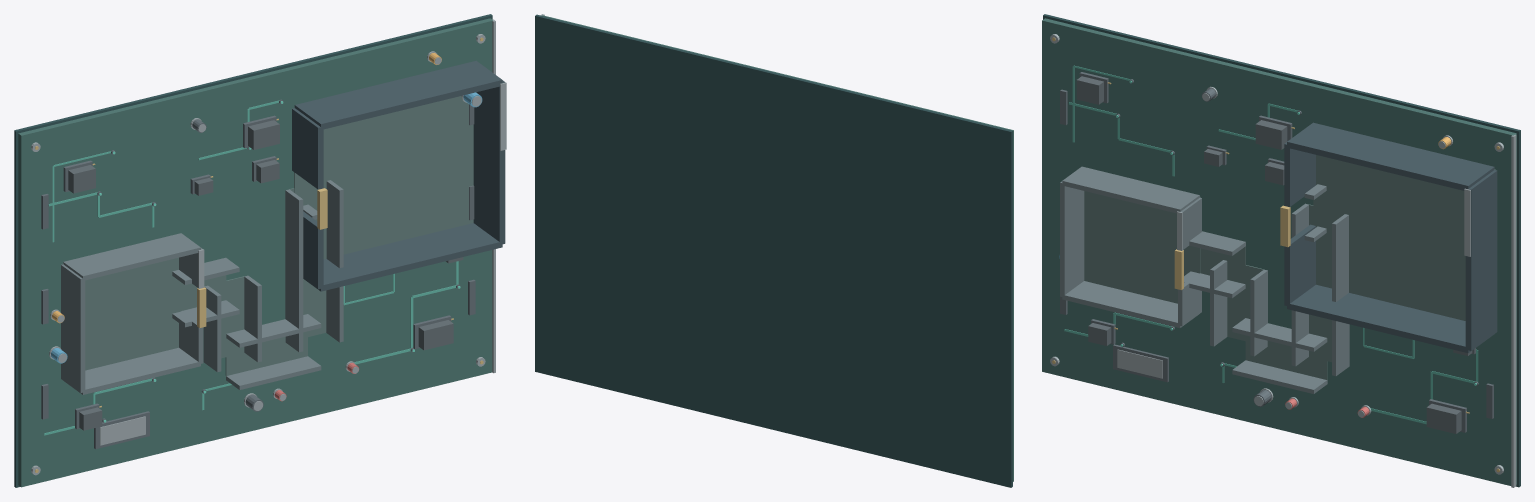
Rendered from motherboard_sci_fi_map.glb.
The picture shows the model from 3 angles, left to right: view 1: azimuth 30°, elevation 25°; view 2: azimuth 150°, elevation 25°; view 3: azimuth 330°, elevation 25°; orthographic projection.
Visible parts, largest first — view 1: Motherboard_Main_PCB, BossArena_Floor, GunRoom_Floor, BossArena_NorthWall, BossArena_SouthWall, BossArena_EastWall, Motherboard_Underside_Frame, GunRoom_NorthWall, GunRoom_WestWall, GunRoom_SouthWall, Corridor_Wall_3_1, BossArena_WestWall_B (+19 smaller); view 2: Motherboard_Underside_Frame, Motherboard_Main_PCB; view 3: Motherboard_Main_PCB, BossArena_Floor, GunRoom_Floor, BossArena_NorthWall, BossArena_SouthWall, BossArena_EastWall, Motherboard_Underside_Frame, GunRoom_NorthWall, GunRoom_SouthWall, GunRoom_WestWall, Perimeter_Metal_Rail, BossArena_WestWall_A (+20 smaller).
Part boxes in pixels (box(x1,y1,x2,y2)): Motherboard_Main_PCB: box(18, 18, 492, 487); BossArena_Floor: box(294, 96, 473, 259); GunRoom_Floor: box(62, 257, 181, 370); BossArena_NorthWall: box(294, 60, 502, 129); BossArena_SouthWall: box(304, 223, 502, 291); BossArena_EastWall: box(473, 80, 505, 244); Motherboard_Underside_Frame: box(14, 14, 492, 487); GunRoom_NorthWall: box(63, 233, 200, 280); GunRoom_WestWall: box(61, 264, 85, 393); GunRoom_SouthWall: box(64, 347, 200, 394); Corridor_Wall_3_1: box(285, 209, 303, 352); BossArena_WestWall_B: box(292, 108, 323, 189); Motherboard_Underside_Frame: box(535, 14, 1012, 487); Motherboard_Main_PCB: box(542, 15, 1013, 481); Motherboard_Main_PCB: box(1042, 18, 1516, 485); BossArena_Floor: box(1313, 155, 1495, 320); GunRoom_Floor: box(1084, 191, 1200, 303); BossArena_NorthWall: box(1287, 122, 1494, 190); BossArena_SouthWall: box(1287, 284, 1494, 353); BossArena_EastWall: box(1465, 170, 1497, 350); Motherboard_Underside_Frame: box(1043, 14, 1520, 487); GunRoom_NorthWall: box(1062, 166, 1199, 213); GunRoom_SouthWall: box(1062, 281, 1198, 327); GunRoom_WestWall: box(1060, 181, 1084, 296); Perimeter_Metal_Rail: box(1511, 134, 1516, 487); BossArena_WestWall_A: box(1284, 224, 1315, 306).
Size of the model in its own units: 105 by 75 by 13.3.
